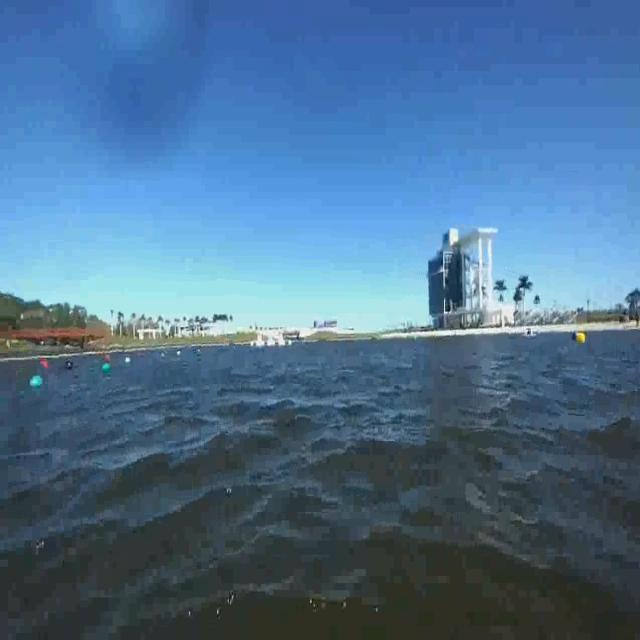black-buoy: (66, 360, 74, 371)
green-buoy: (30, 375, 45, 391), (102, 362, 112, 374)
yellow-buoy: (576, 332, 586, 346)
